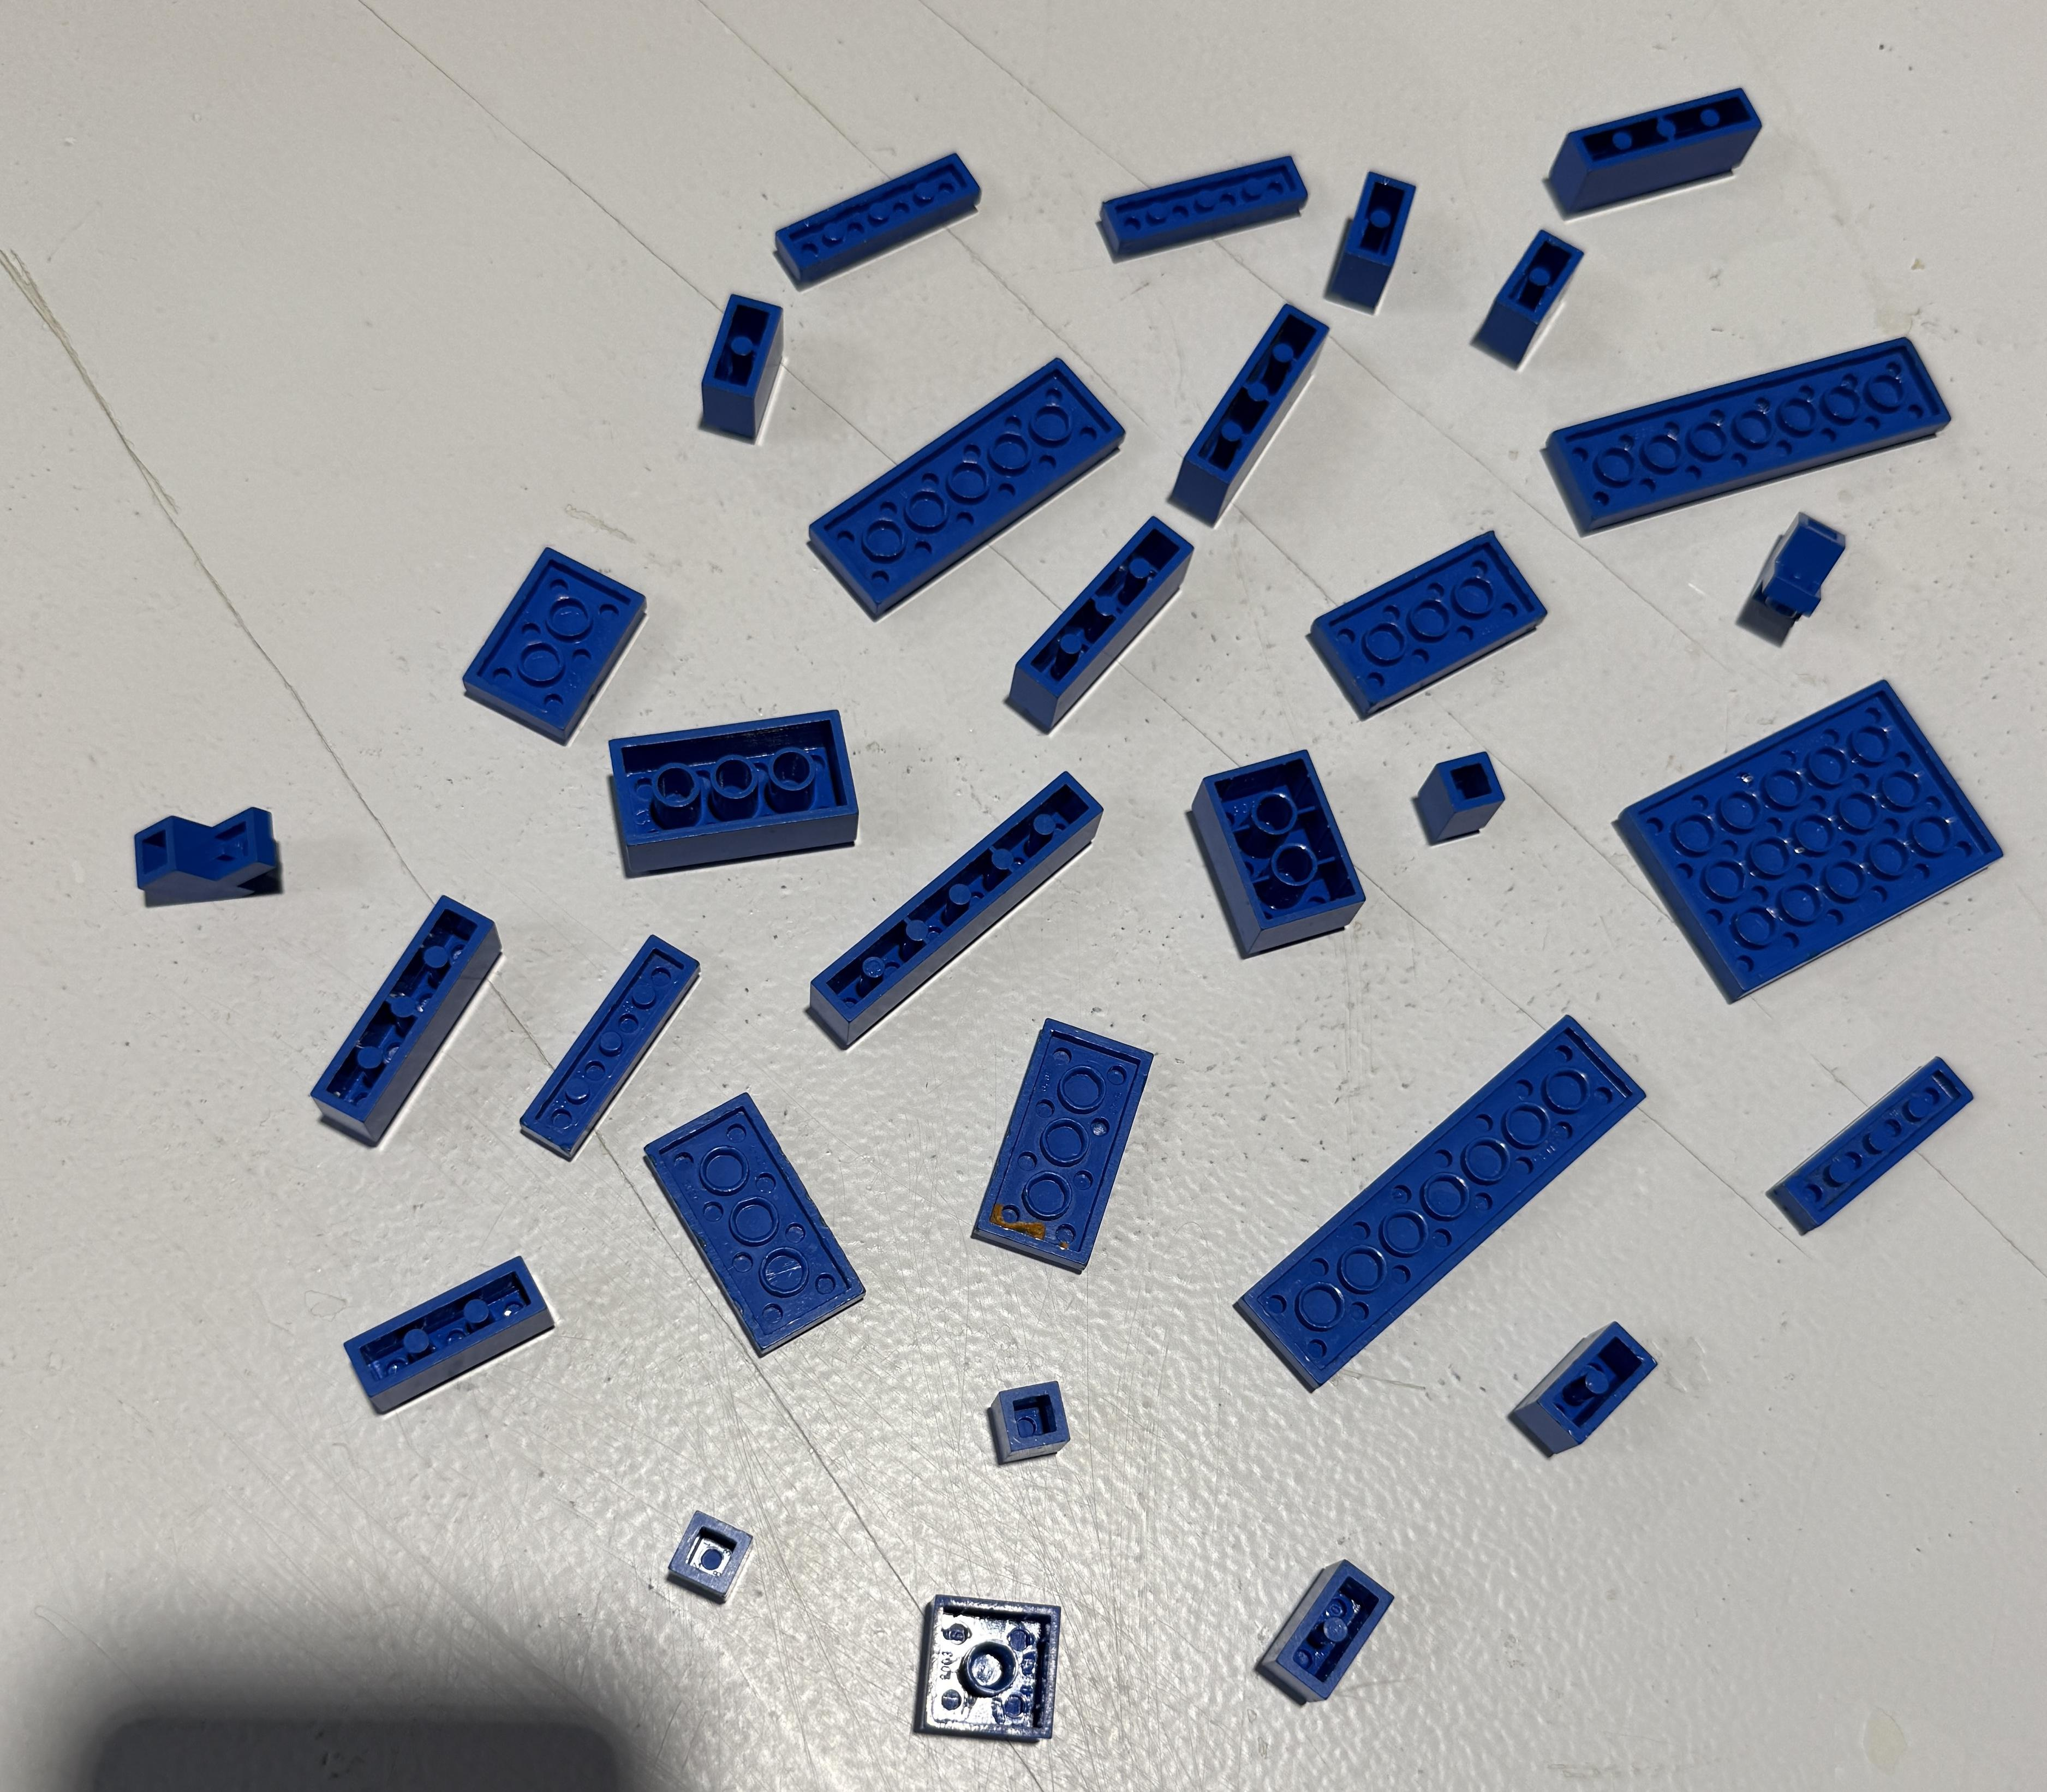brick_1x1: (1391, 727, 1542, 863), (966, 1367, 1091, 1489), (649, 1501, 766, 1627)
brick_1x2: (1490, 1303, 1692, 1503), (1225, 1526, 1426, 1719), (672, 266, 832, 478), (1466, 181, 1607, 390), (1304, 162, 1434, 334)
brick_1x3: (317, 1218, 583, 1430)
brick_1x4: (289, 879, 548, 1131), (994, 492, 1215, 767), (1528, 56, 1788, 256), (1163, 285, 1332, 552)
brick_2x2: (889, 1550, 1086, 1780)
brick_2x3: (1173, 732, 1375, 973)
brick_2x4: (571, 685, 883, 896)
